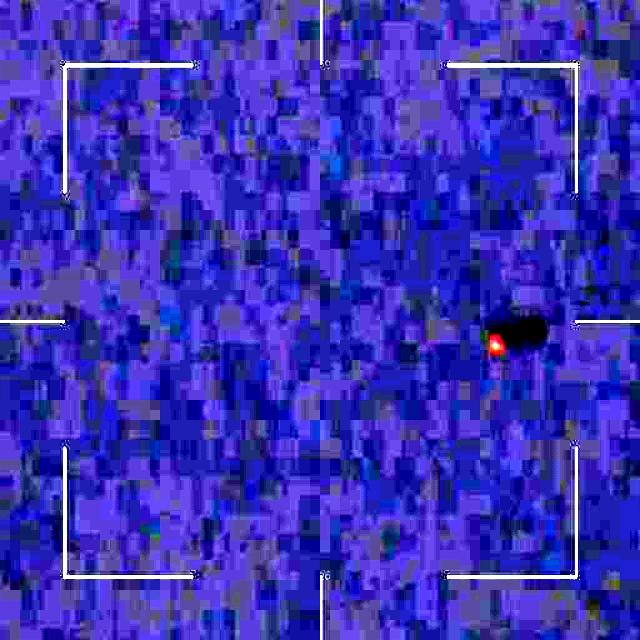bird: (486, 318, 516, 369)
